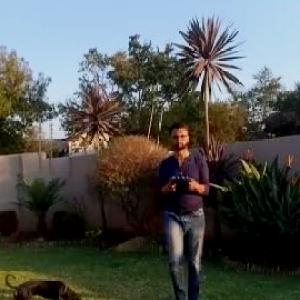follow: (160, 115, 214, 299)
null: (1, 268, 89, 299)
